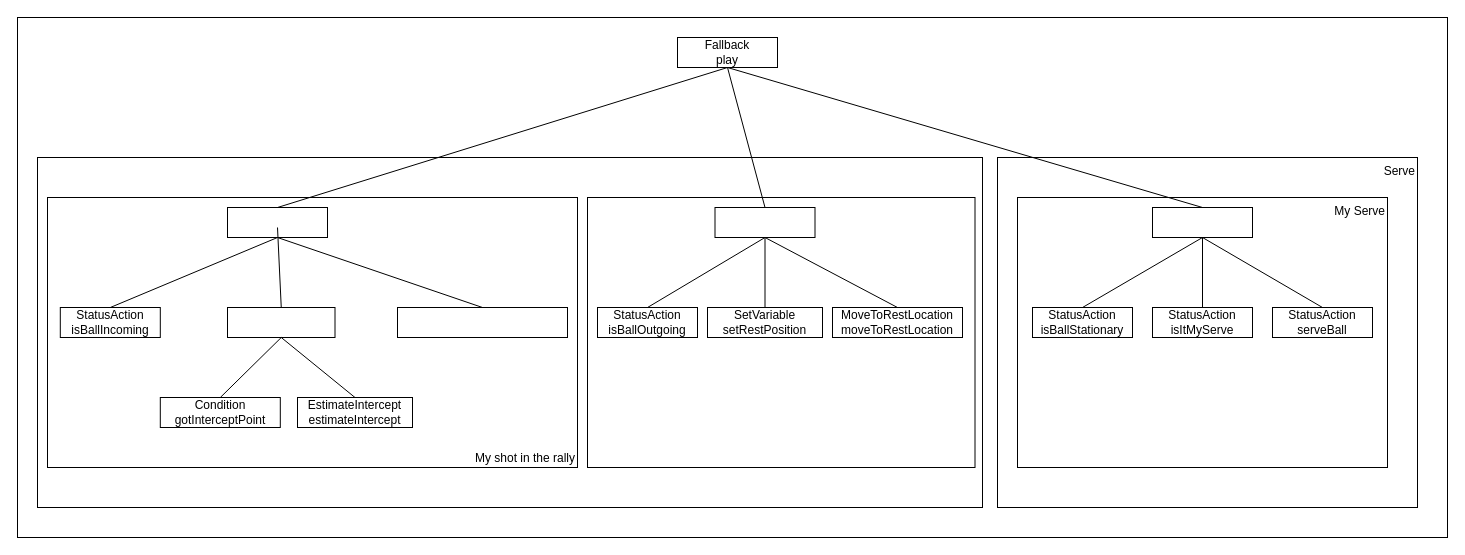
Image size: 1465x555. Some labels were removed from this diagram. The box of each missing label's shape, as (x1, y1, x2, y2) in pixels:
Fallback getInterceptPoint: (226, 306, 335, 338)
MoveToInterceptLocation moveToInterceptLocation: (396, 306, 568, 338)
Playing a rally: (36, 156, 982, 508)
Prepare for opponent return: (586, 196, 975, 468)
Sequence moveToRest: (714, 206, 815, 238)
Sequence prepareAndHitBall: (226, 206, 328, 238)
Sequence serve: (1152, 206, 1252, 238)
